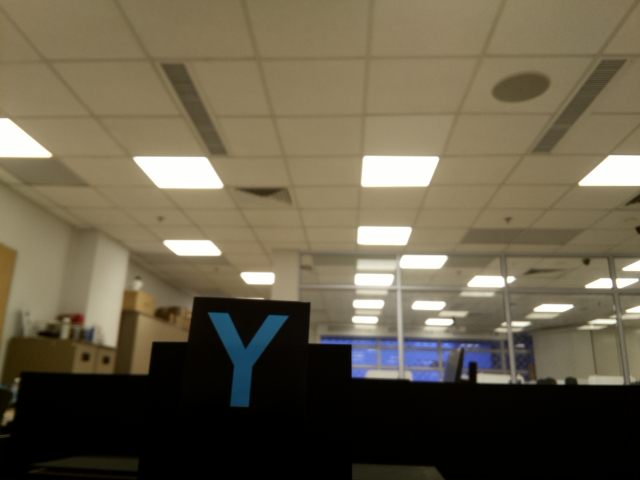y: (204, 304, 294, 416)
